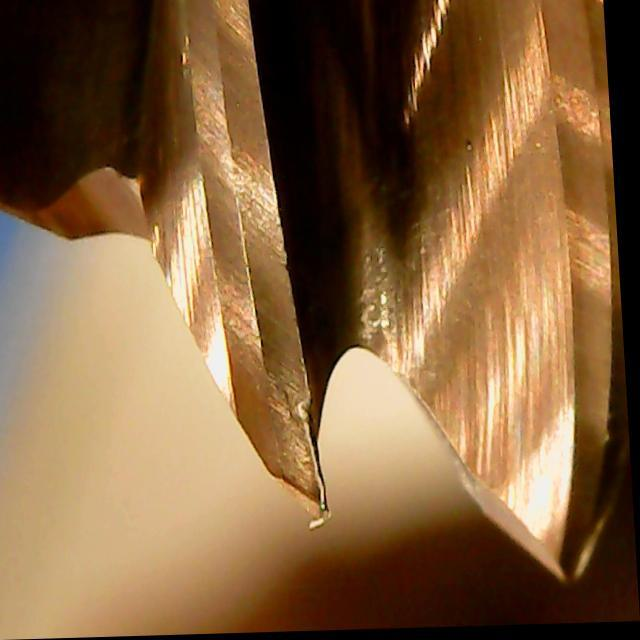Tool-wear-class-1: (192, 200, 342, 535)
